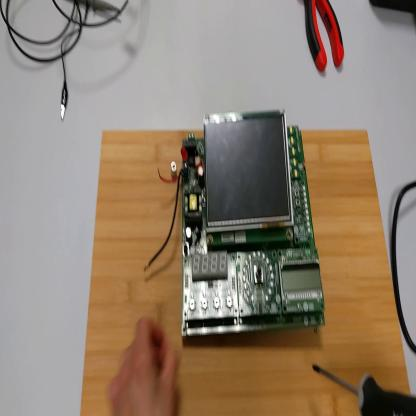hand: (108, 318, 181, 415)
low voltage board: (144, 105, 325, 334)
oscilloscope probe tip: (70, 1, 122, 16)
pliers: (305, 1, 346, 74)
screwdriver-: (313, 362, 416, 415)
working area: (80, 126, 410, 416)
